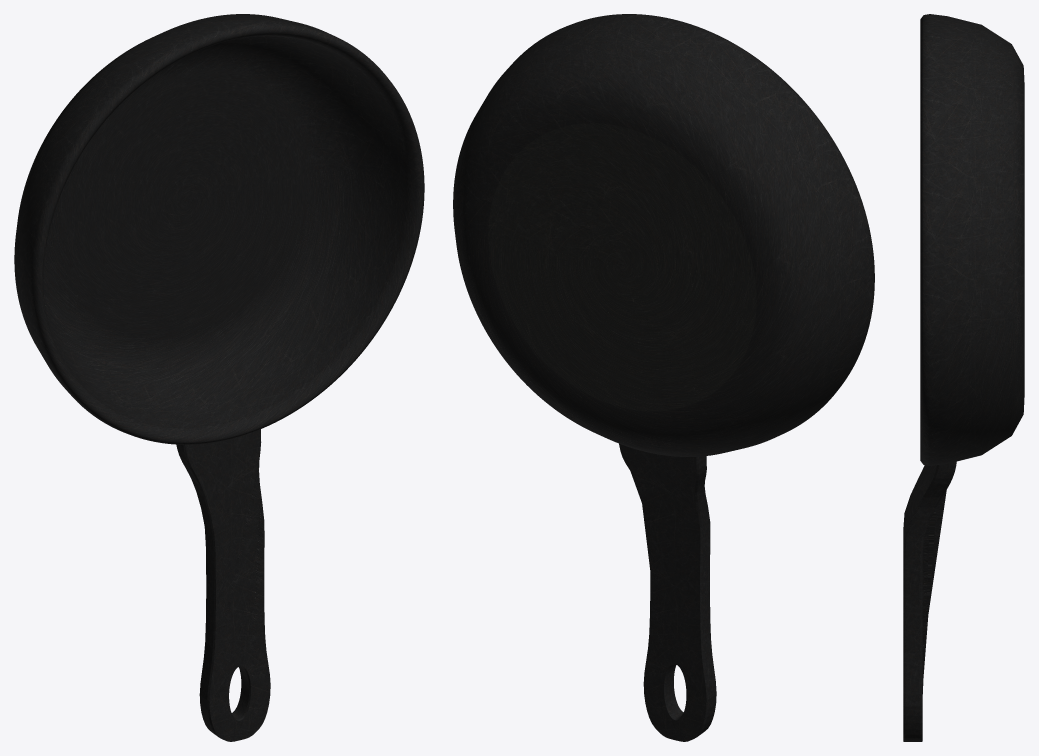
The model's file is pan.glb.
The picture shows the model from 3 angles, left to right: view 1: azimuth 30°, elevation 25°; view 2: azimuth 150°, elevation 25°; view 3: azimuth 270°, elevation 25°; orthographic projection. The views are drawn at different scales.
Parts seen in each view (by area): view 1: Pan_Body, Pan_Handle_Pierced; view 2: Pan_Body, Pan_Handle_Pierced; view 3: Pan_Body, Pan_Handle_Pierced.
Boxes of the visible parts, <box> form: Pan_Body: <box>14,14,424,444</box>; Pan_Handle_Pierced: <box>176,429,270,741</box>; Pan_Body: <box>453,14,874,456</box>; Pan_Handle_Pierced: <box>619,443,716,741</box>; Pan_Body: <box>920,14,1024,465</box>; Pan_Handle_Pierced: <box>903,461,956,741</box>.
Bounding box in the file's own units: 0.21 × 0.36 × 0.0565.
4 materials, 4 textured.
